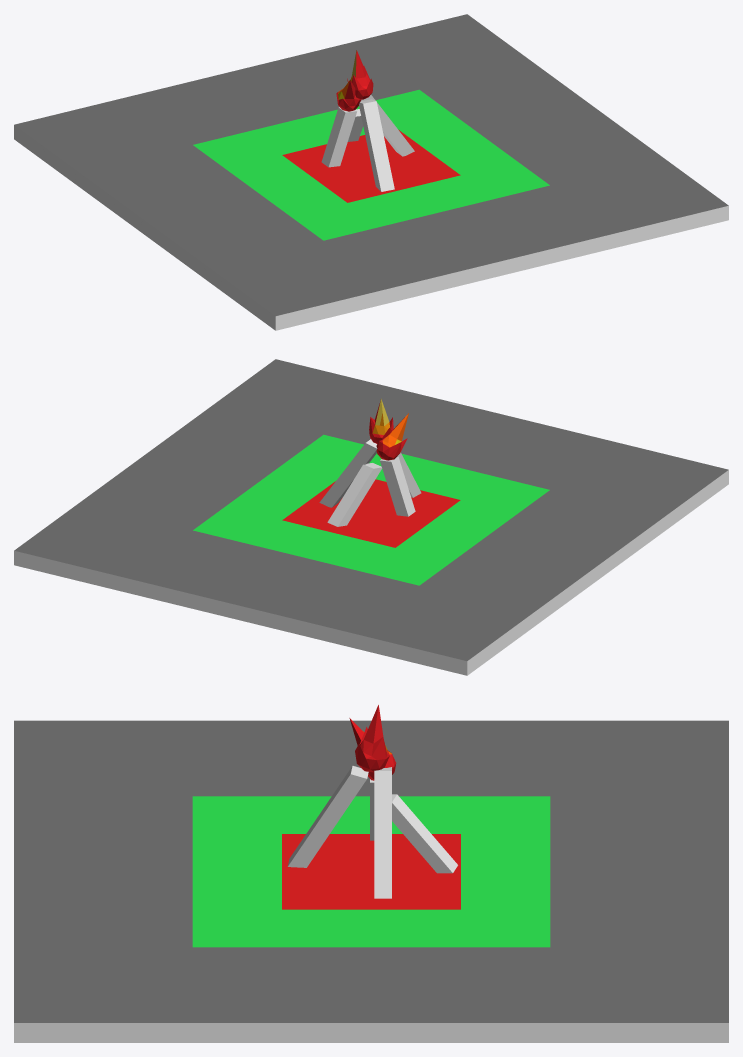
File: gamemap.fbx
3 views of the same model, one above another, from view 1: azimuth 30°, elevation 25°; view 2: azimuth 150°, elevation 25°; view 3: azimuth 270°, elevation 25° (orthographic). The views are drawn at different scales.
Visible parts, largest first — view 1: Icosphere.002; view 2: Icosphere.002; view 3: Icosphere.002.
Boxes of the visible parts, <box> form: Icosphere.002: <box>14,14,728,330</box>; Icosphere.002: <box>14,359,728,675</box>; Icosphere.002: <box>14,705,728,1042</box>.
Size of the model in its own units: 2079 by 576 by 2079.
